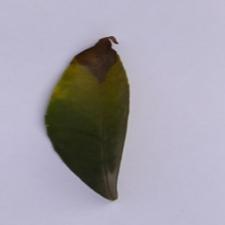Black: (62, 31, 136, 103)
